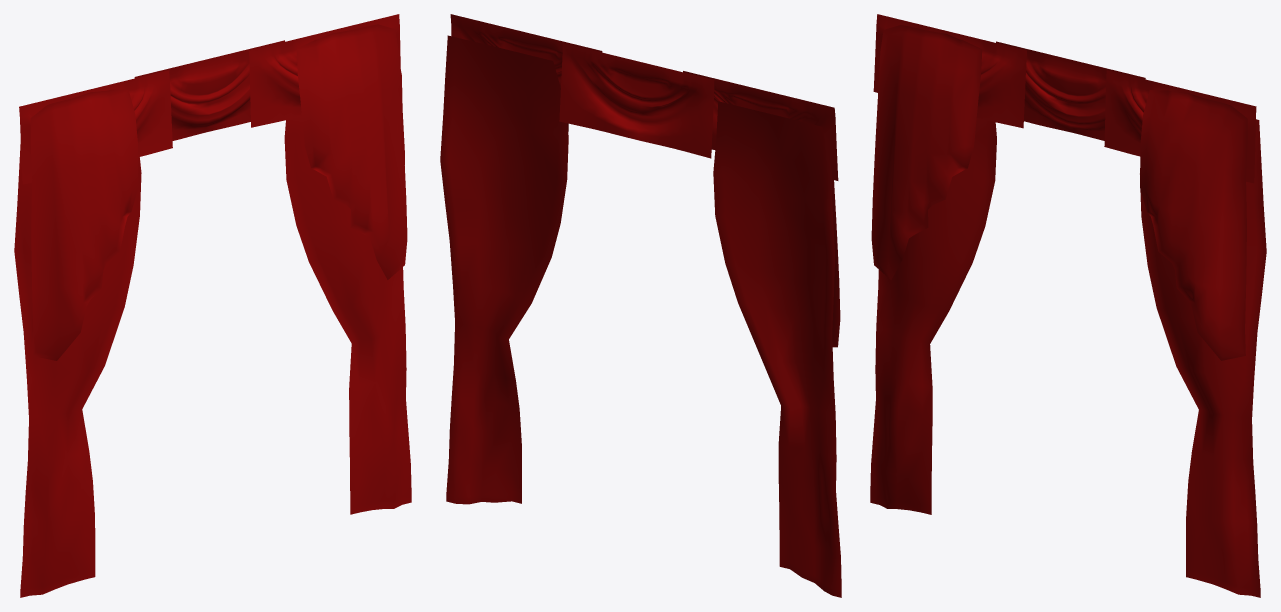
File: Curtainside.fbx
3 views of the same model, side by side, from view 1: azimuth 30°, elevation 25°; view 2: azimuth 150°, elevation 25°; view 3: azimuth 330°, elevation 25° (orthographic).
Parts seen in each view (by area): view 1: SM_curtain_60.1; view 2: SM_curtain_60.1; view 3: SM_curtain_60.1.
Part boxes in pixels (x1=…): SM_curtain_60.1: x1=14, y1=14, x2=411, y2=597; SM_curtain_60.1: x1=440, y1=14, x2=841, y2=597; SM_curtain_60.1: x1=870, y1=14, x2=1266, y2=597.
Bounding box in the file's own units: 208 × 248 × 22.74.
